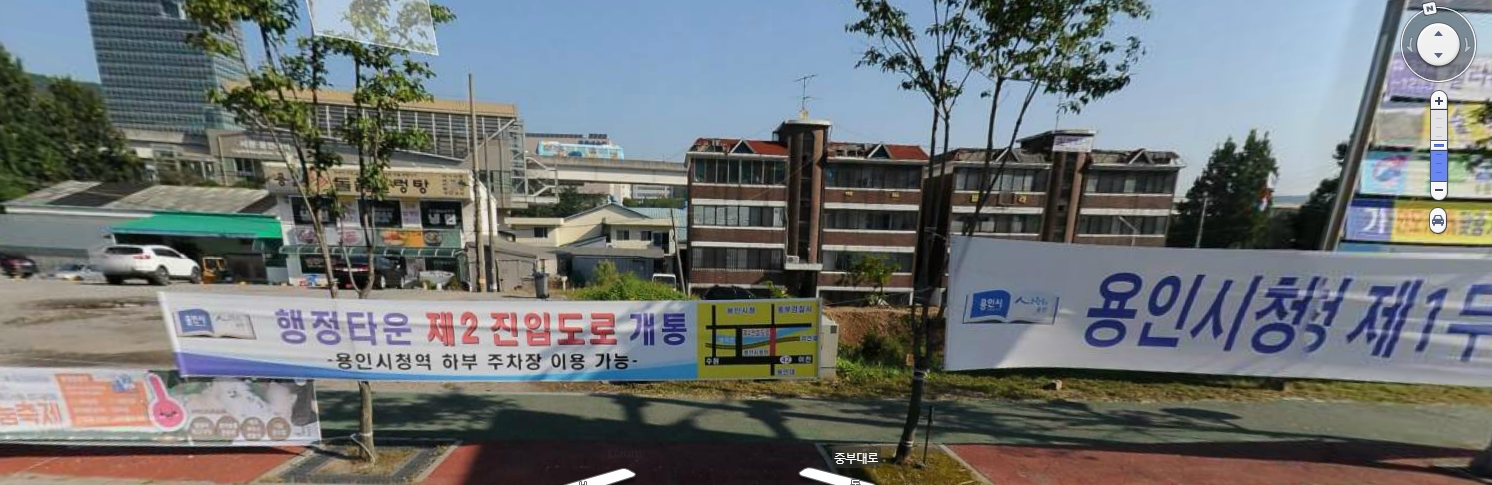banner: (919, 201, 1492, 400), (150, 274, 830, 395)
